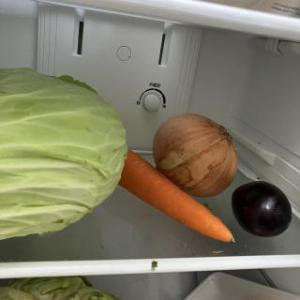cabbage: (0, 66, 130, 242), (0, 274, 128, 300)
carrot: (116, 148, 236, 245)
eggplant: (231, 180, 293, 238)
onion: (152, 112, 238, 200)
